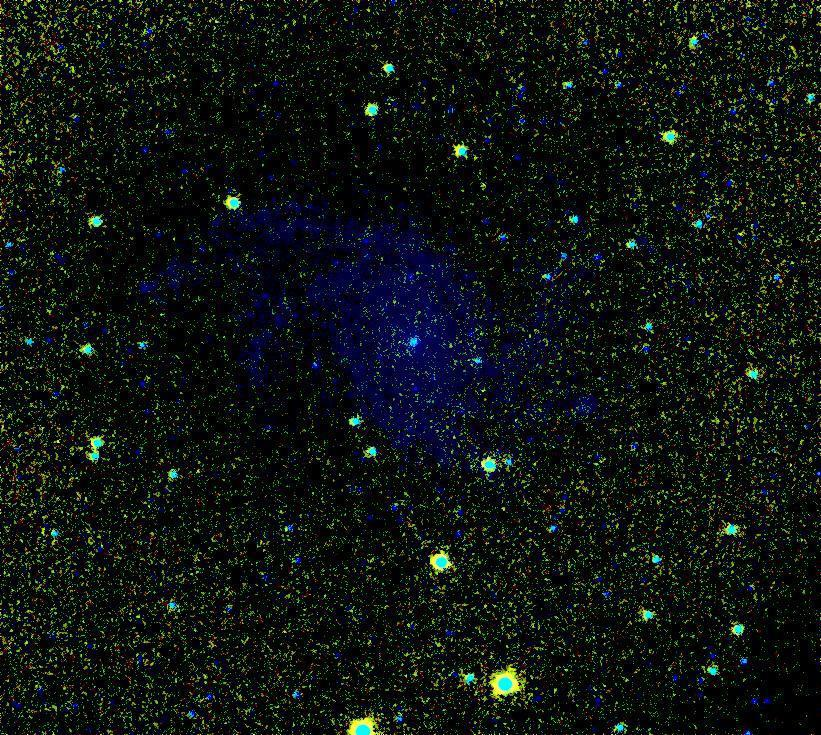star: (468, 171, 498, 201)
